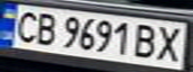1: (112, 19, 133, 56)
6: (75, 16, 96, 52)
9: (57, 14, 81, 50), (93, 18, 115, 54)
B: (130, 21, 163, 60), (30, 10, 60, 46)
C: (6, 8, 42, 44)
X: (151, 24, 187, 63)
